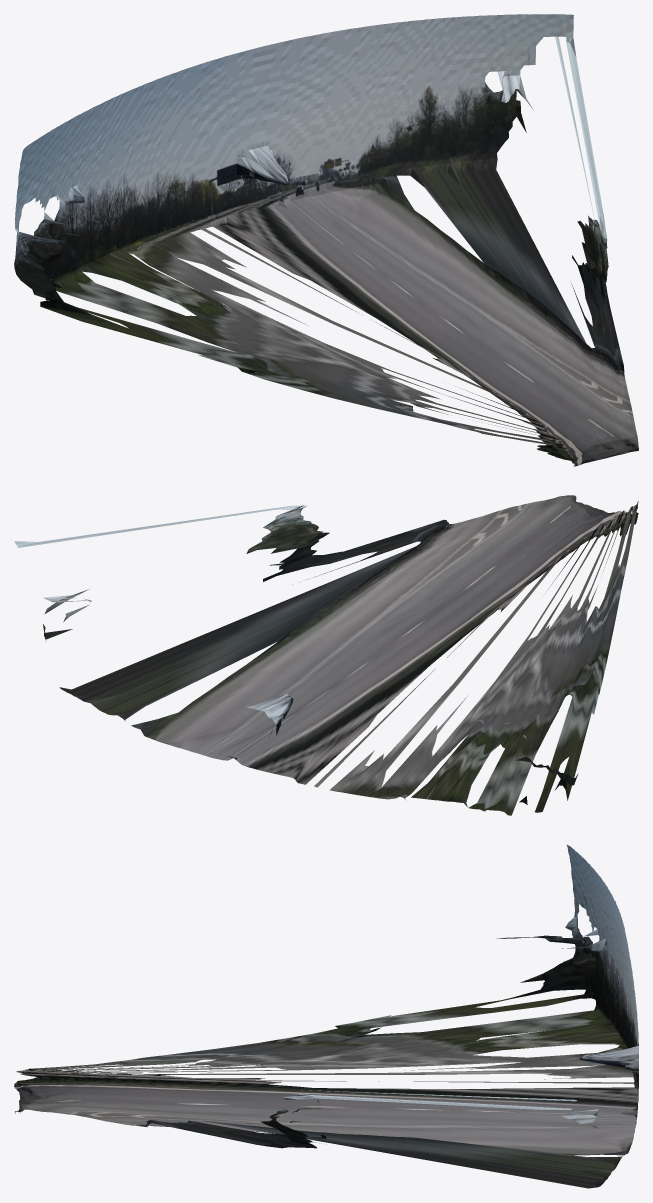
3 views of the same model, one above another, from view 1: azimuth 30°, elevation 25°; view 2: azimuth 150°, elevation 25°; view 3: azimuth 270°, elevation 25° (orthographic). The views are drawn at different scales.
Visible parts, largest first — view 1: defaultobject; view 2: defaultobject; view 3: defaultobject.
Boxes of the visible parts, x1=… form: defaultobject: x1=14, y1=14, x2=638, y2=466; defaultobject: x1=14, y1=495, x2=638, y2=815; defaultobject: x1=14, y1=845, x2=638, y2=1188.
Bounding box in the file's own units: 40.94 × 12.3 × 44.45.
1 material, 1 textured.
